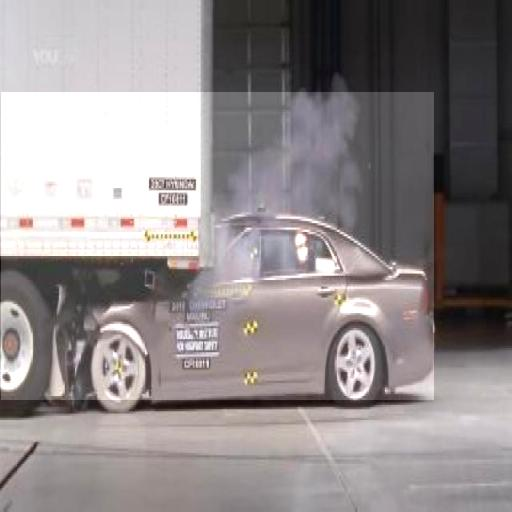小汽车撞小汽车: (1, 92, 434, 400)
